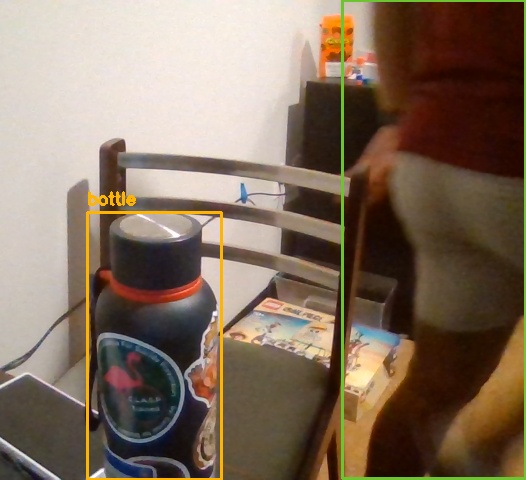bottle: (87, 212, 221, 479)
